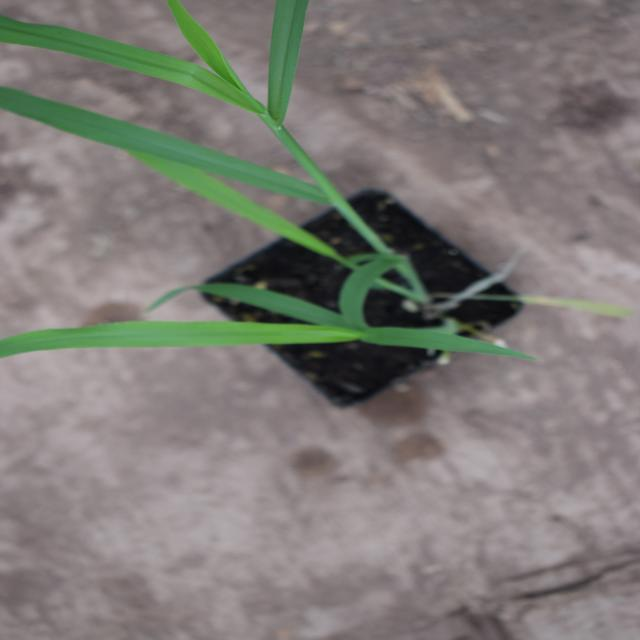crabgrass: (226, 11, 402, 497), (406, 44, 640, 370)
